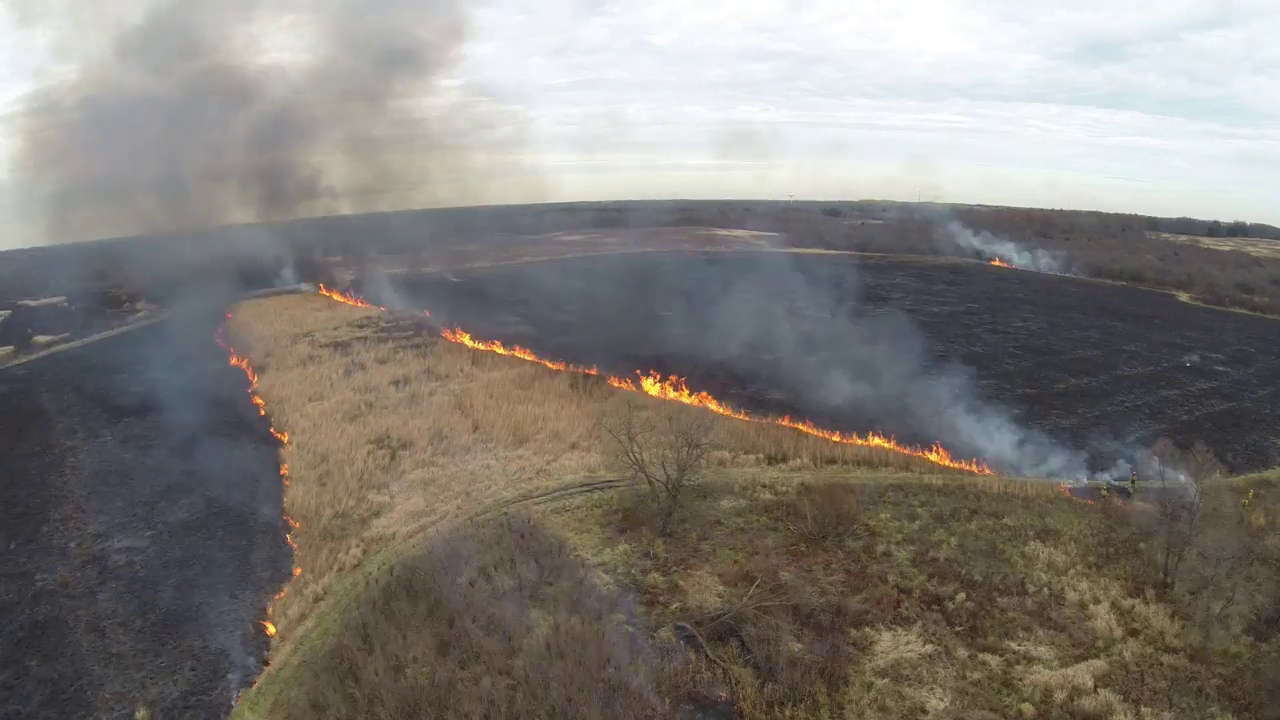forest_fire: (606, 370, 994, 473), (440, 328, 599, 373), (215, 323, 265, 416), (258, 589, 283, 636), (322, 288, 380, 308), (282, 514, 297, 550), (269, 425, 287, 446), (987, 257, 1015, 267), (280, 462, 287, 486), (291, 564, 301, 576), (224, 313, 230, 319), (425, 312, 428, 315)
